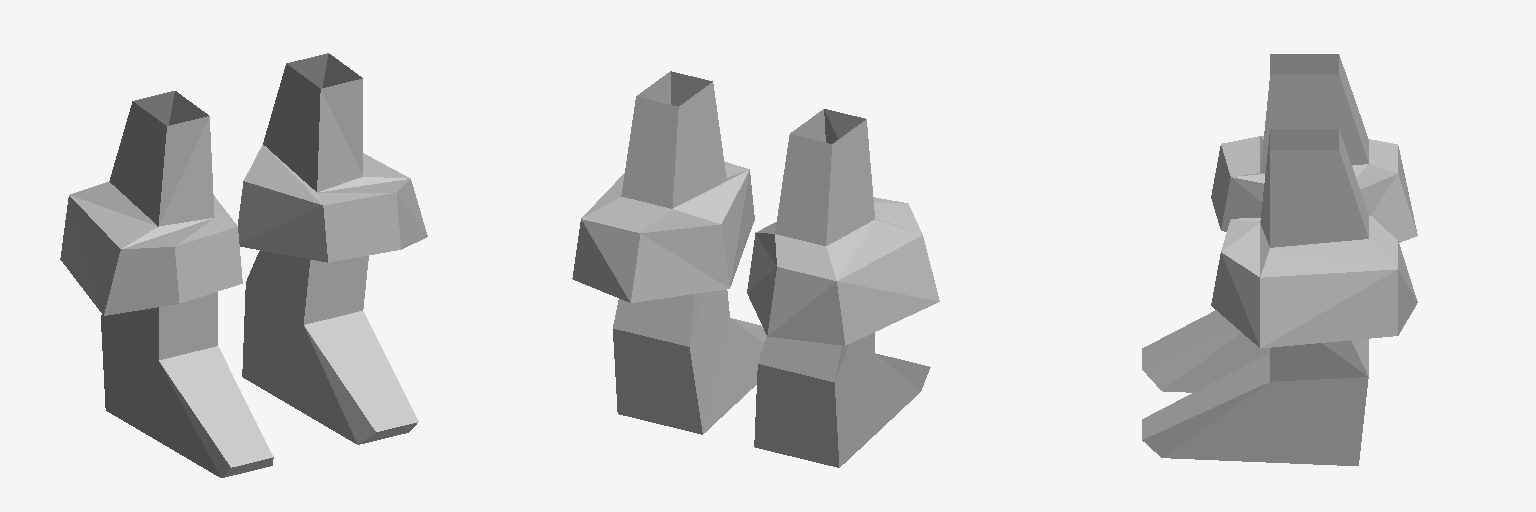
The model's file is boots.obj.
3 views of the same model, side by side, from view 1: azimuth 30°, elevation 25°; view 2: azimuth 150°, elevation 25°; view 3: azimuth 270°, elevation 25° (orthographic).
Bounding box in the file's own units: 3.8 × 3.5 × 2.8.